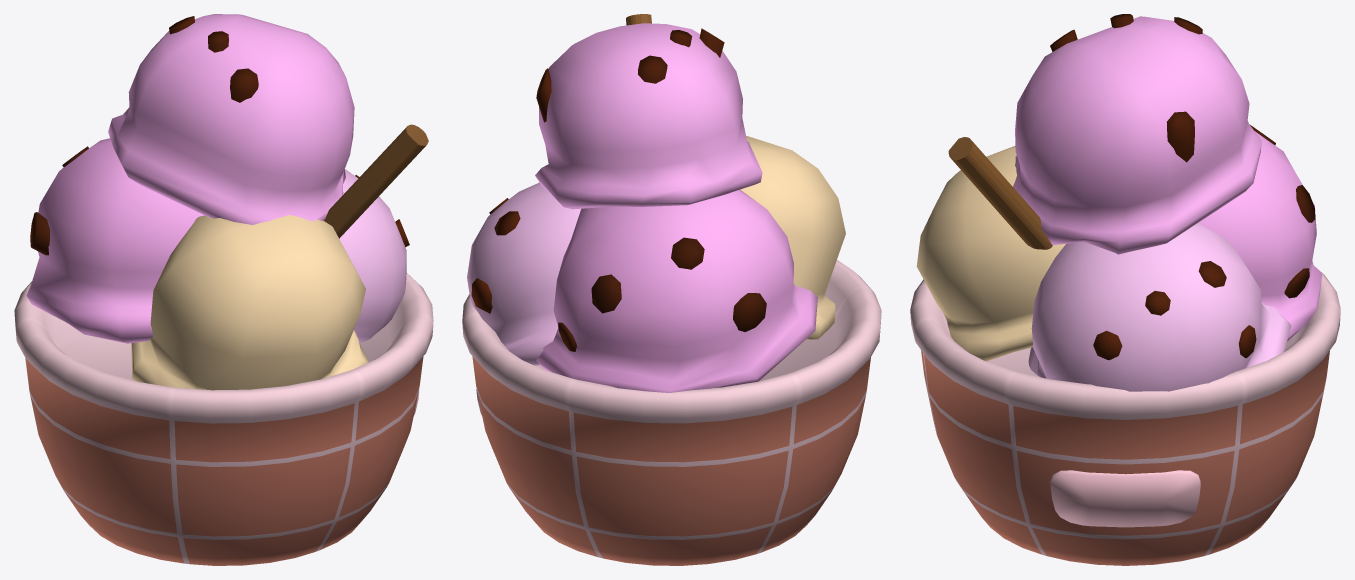
File: IceCream_0001_0020.fbx
3 renders of one model, left to right at view 1: azimuth 30°, elevation 25°; view 2: azimuth 150°, elevation 25°; view 3: azimuth 270°, elevation 25°, orthographic. The views are drawn at different scales.
Parts seen in each view (by area): view 1: Ice_0001_0020; view 2: Ice_0001_0020; view 3: Ice_0001_0020.
Part boxes in pixels (x1,y1,x2,y2): Ice_0001_0020: (14,14,433,565); Ice_0001_0020: (462,14,881,565); Ice_0001_0020: (910,14,1340,565).
Size of the model in its own units: 0.1329 by 0.1654 by 0.1328.
Materials: 1 (1 with a texture image).
